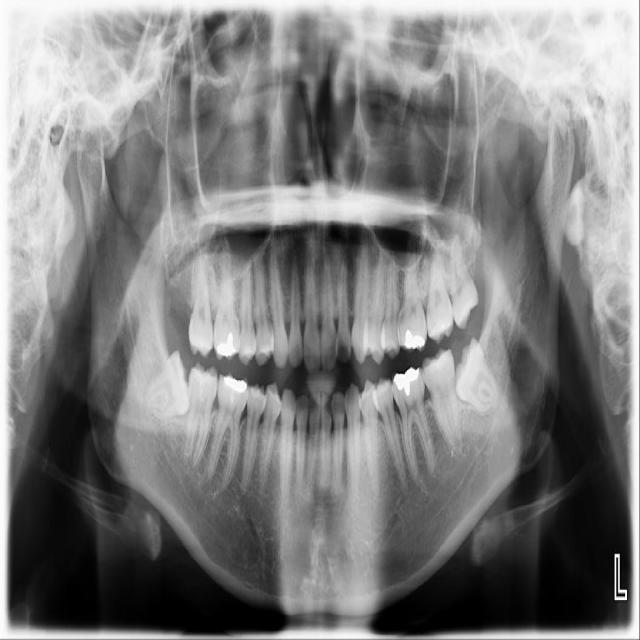52: (385, 362, 436, 416), (208, 369, 255, 419), (397, 309, 428, 353), (213, 317, 241, 361)
73: (540, 542, 542, 548)
BioHorizons Implant: (426, 226, 453, 345)
BioLife Implant: (446, 228, 480, 331)
Biomet 3i Implant: (437, 335, 505, 420)
Blue Sky Bio Implant: (419, 346, 466, 461)
Caries: (185, 232, 214, 358)
Implant: (179, 361, 220, 471)
Keystone Dental Implant: (136, 350, 193, 422)
